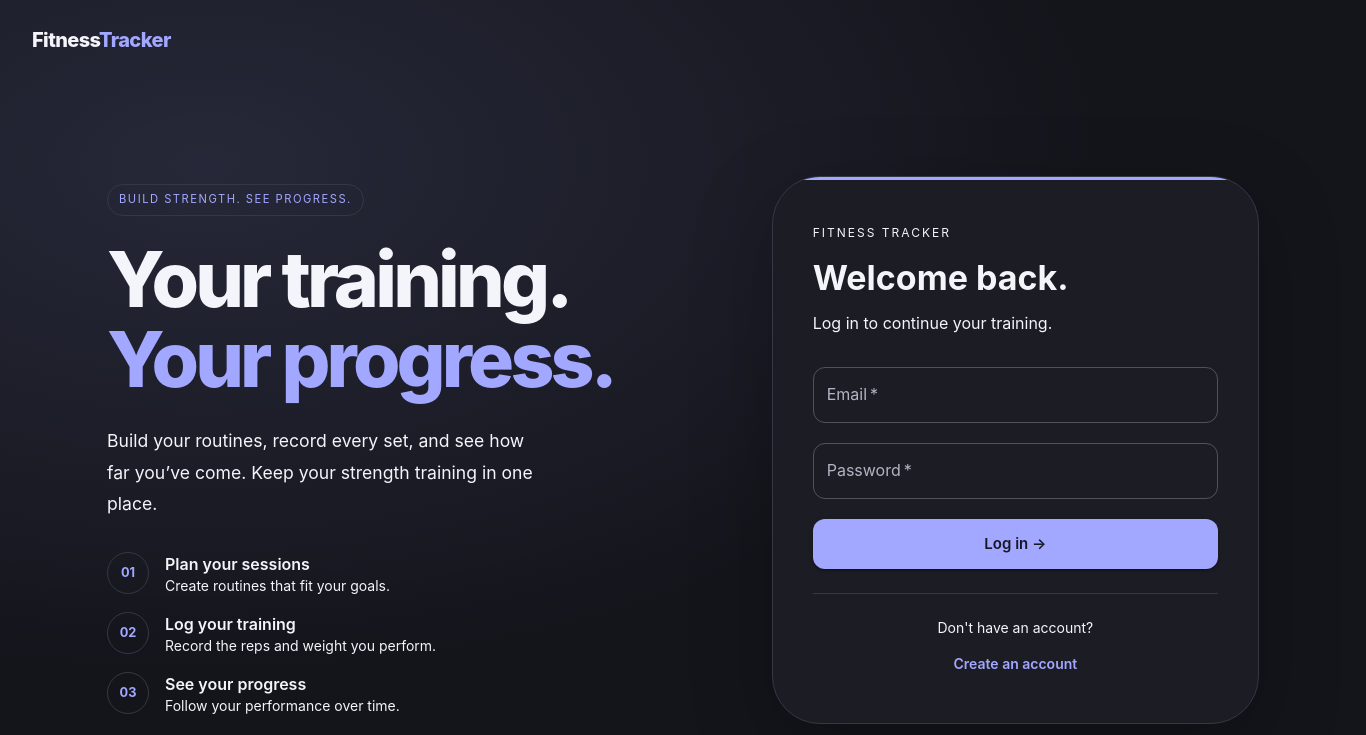
Test: Authentication › shows a login error and stays on the welcome page
This screenshot has width=1366, height=735.
Type "test@example.com" into the field labelled "Email *".
click(1016, 395); type("test@example.com")  # box [813,367,1218,423]
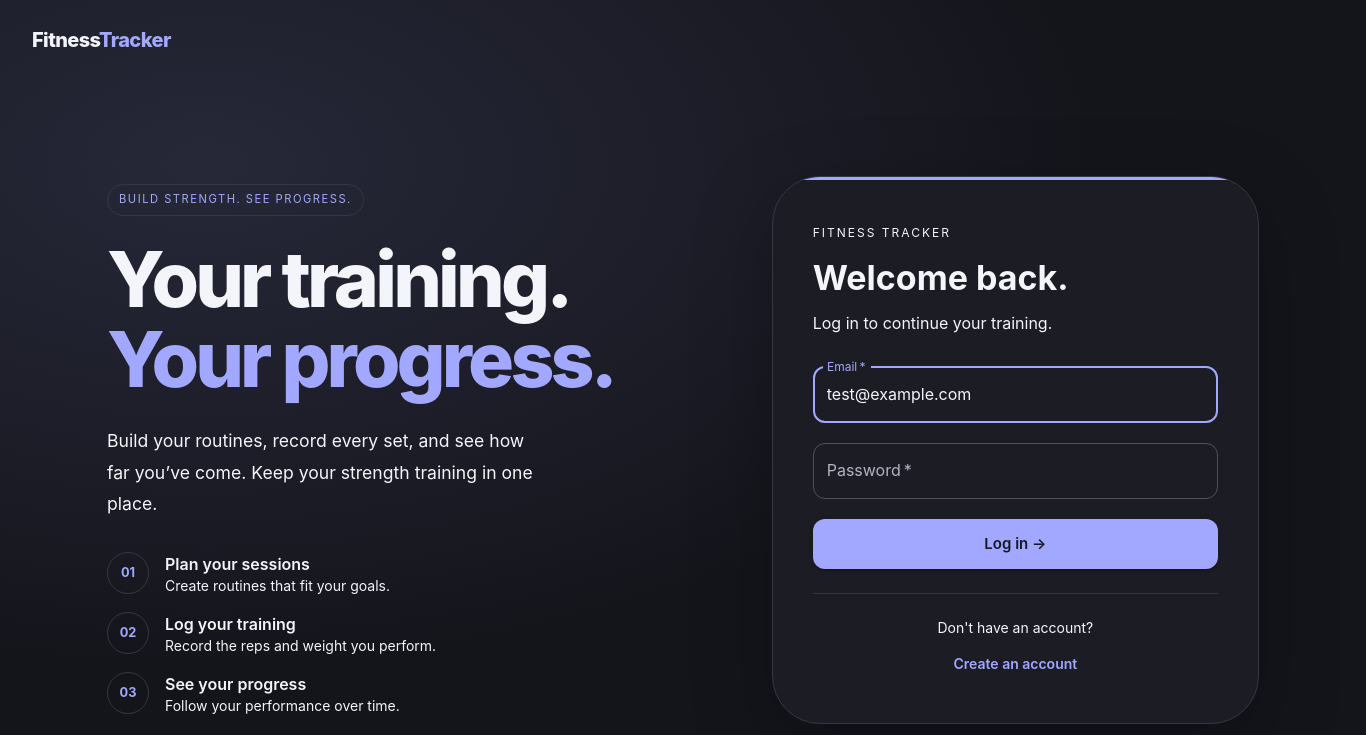
Type "TestAccount123!" into the password field labelled "Password *".
click(1016, 471); type("TestAccount123!")  # box [813,443,1218,499]
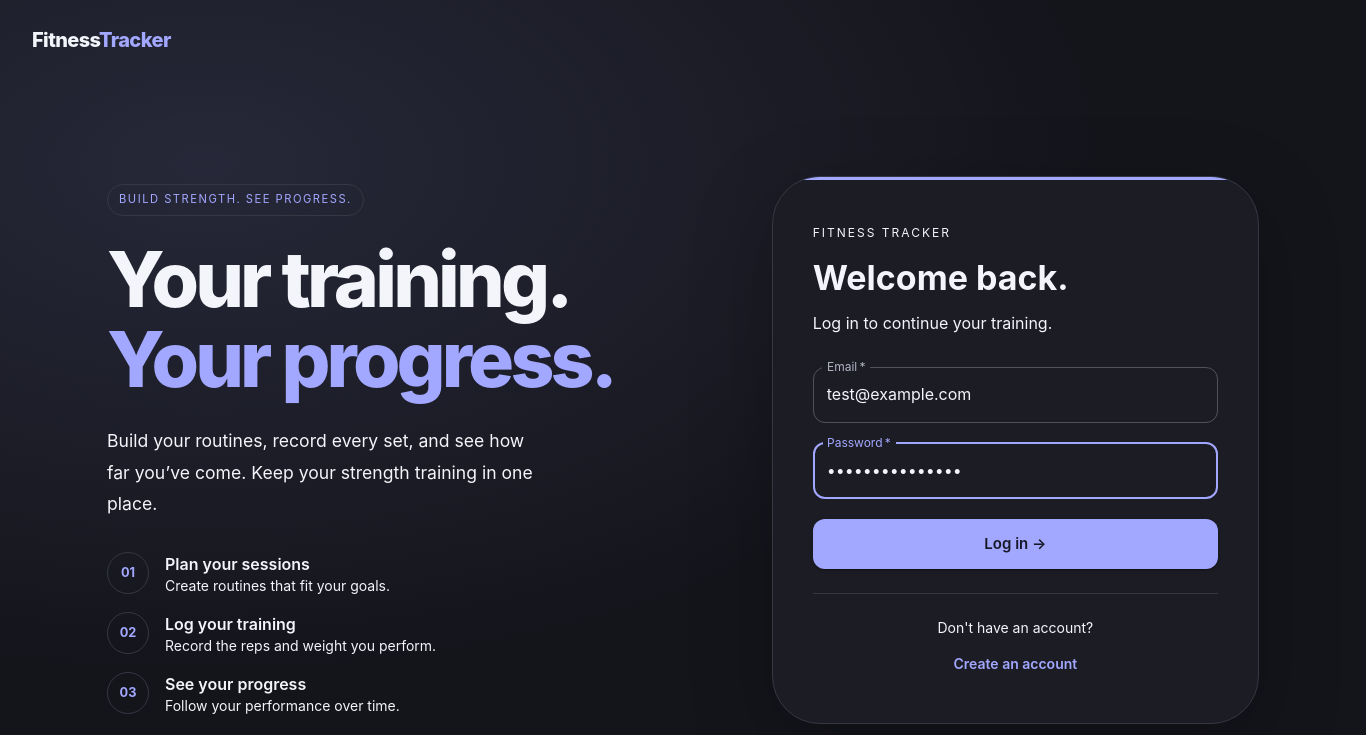
Click the button "Log in →".
click(1016, 544)  # box [813,519,1218,569]
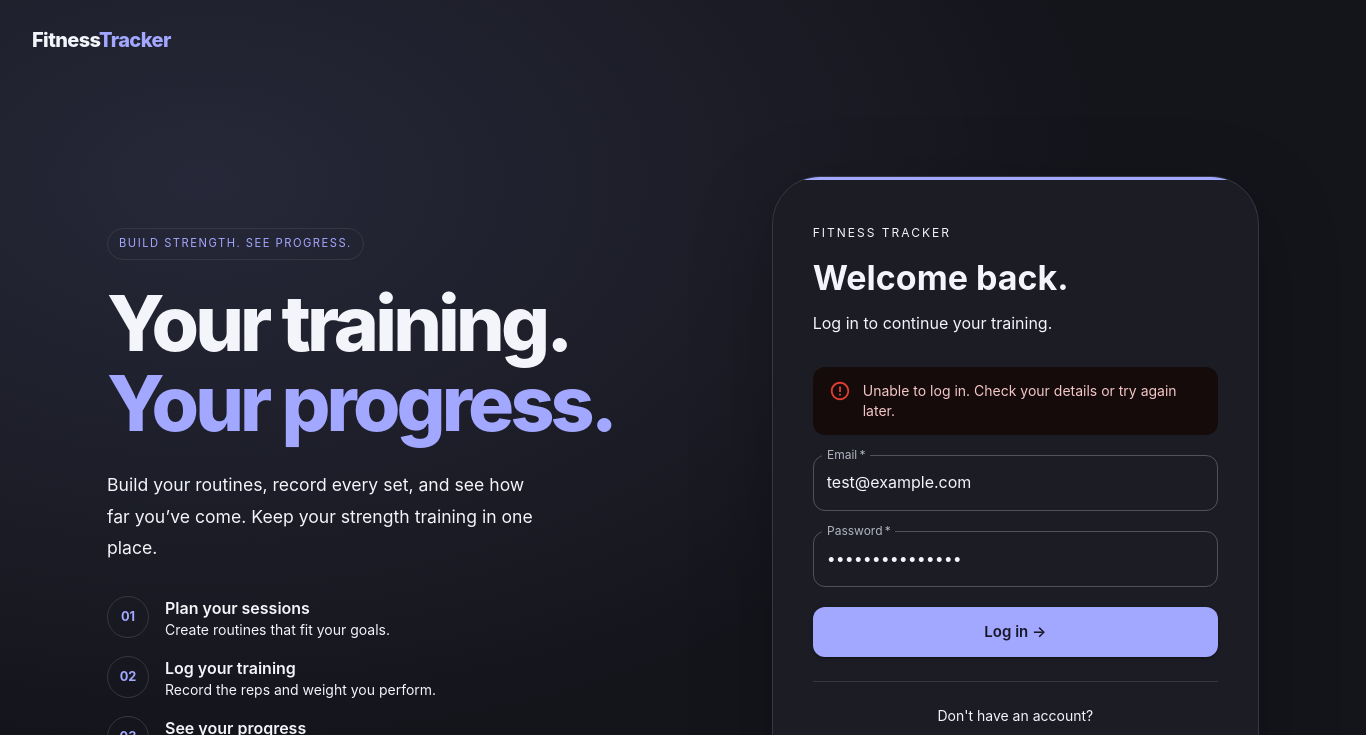
Expected: the text "Log in" is enabled
Now the text "Unable to log in. Check your details or try again later." is shown, box [813,367,1218,435]
